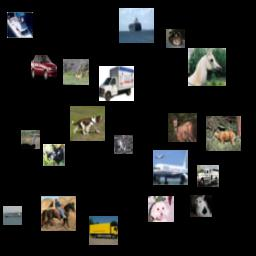airplane: (153, 150, 188, 185)
automobile: (31, 55, 57, 81)
bird: (21, 130, 40, 149)
cat: (190, 195, 212, 217), (43, 144, 65, 166), (166, 29, 185, 48)
deer: (206, 116, 241, 151), (168, 113, 197, 142), (63, 59, 89, 85)
dog: (70, 106, 105, 141), (148, 196, 174, 222)
frog: (114, 135, 133, 154)
ship: (119, 8, 154, 43), (7, 12, 33, 38), (3, 206, 22, 225)
truck: (99, 66, 134, 101), (89, 216, 118, 245), (197, 165, 219, 187)
